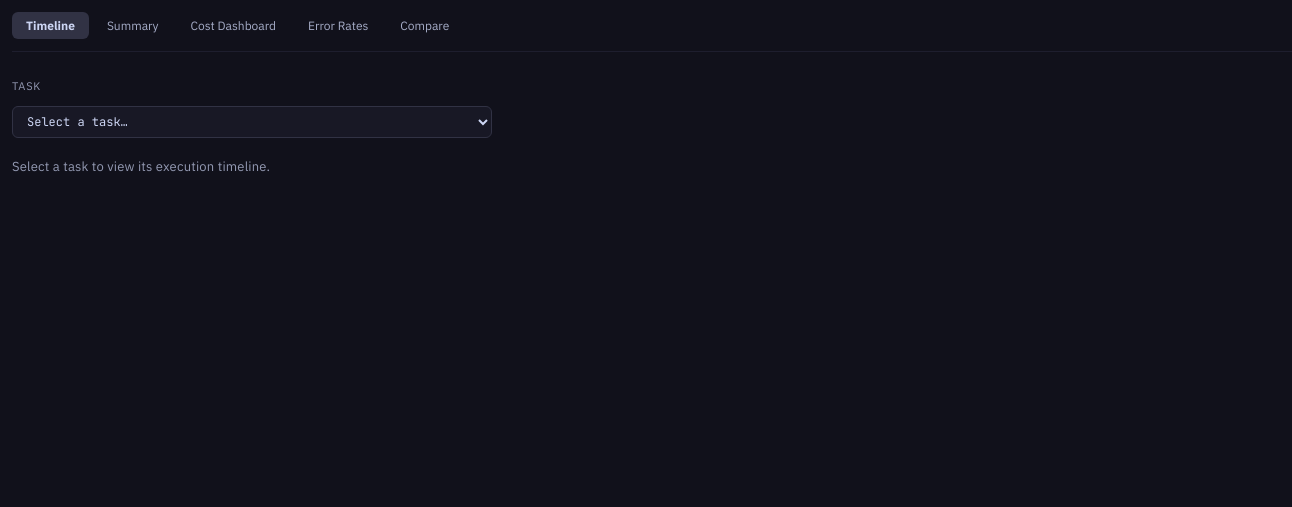
Test: H2 — Observability must not let a stale response win › keeps the newest date range on the Cost Dashboard
Click the button "Cost Dashboard" at (233,26), box [177, 12, 290, 39]
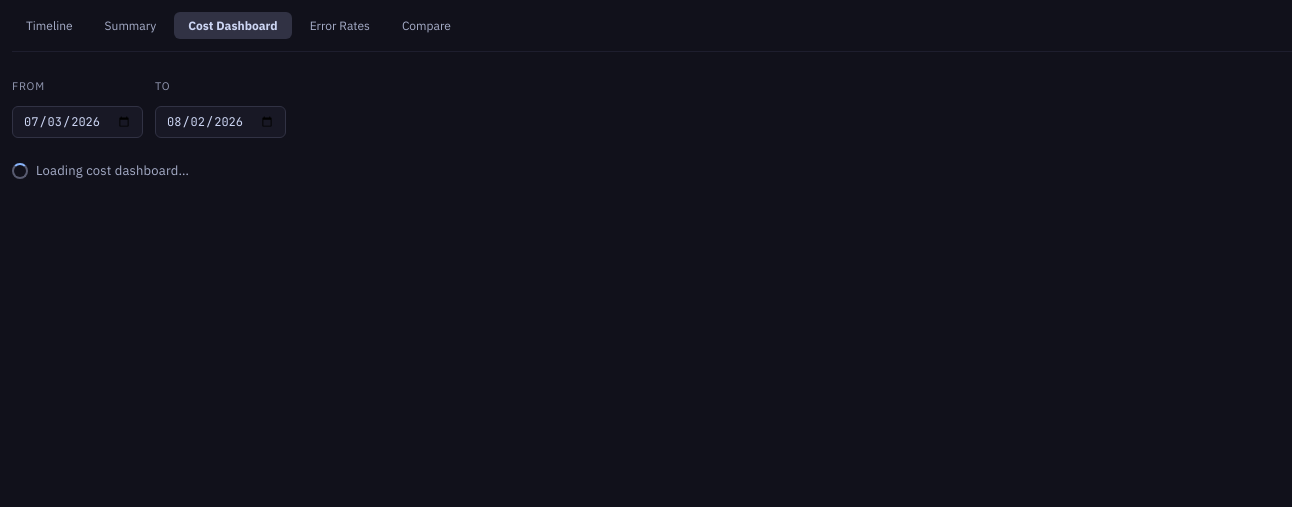
// Change the range, which re-fires the effect while the first is in flight.
Type "2026-06-01" into the date field labelled "From" at (78,122), box [12, 106, 143, 138]
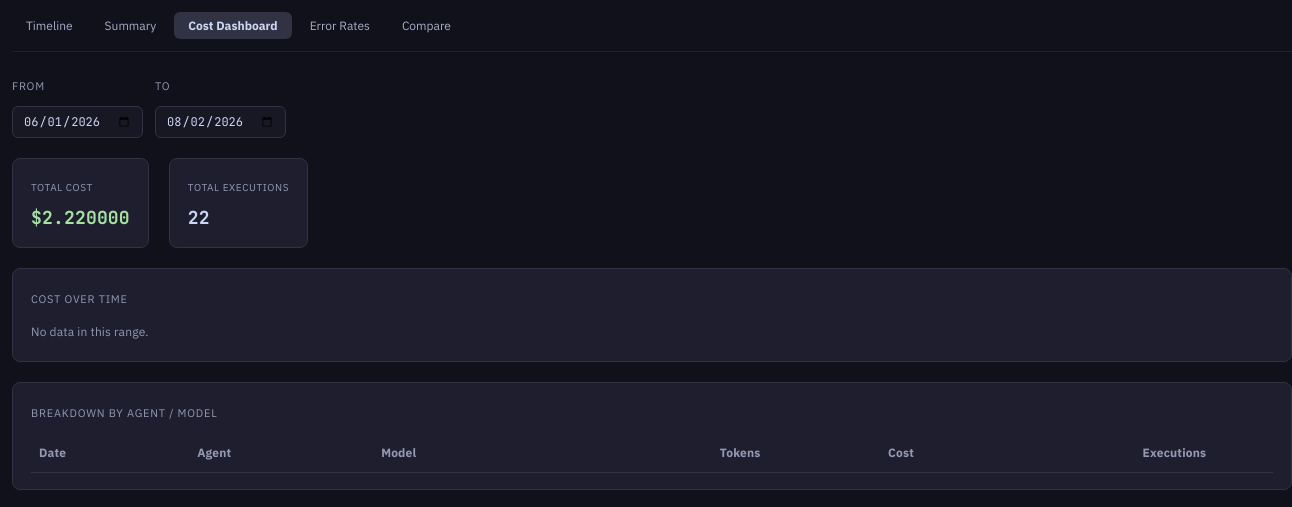
expect the text "$2.220000" is shown: met, box [31, 205, 130, 231]
